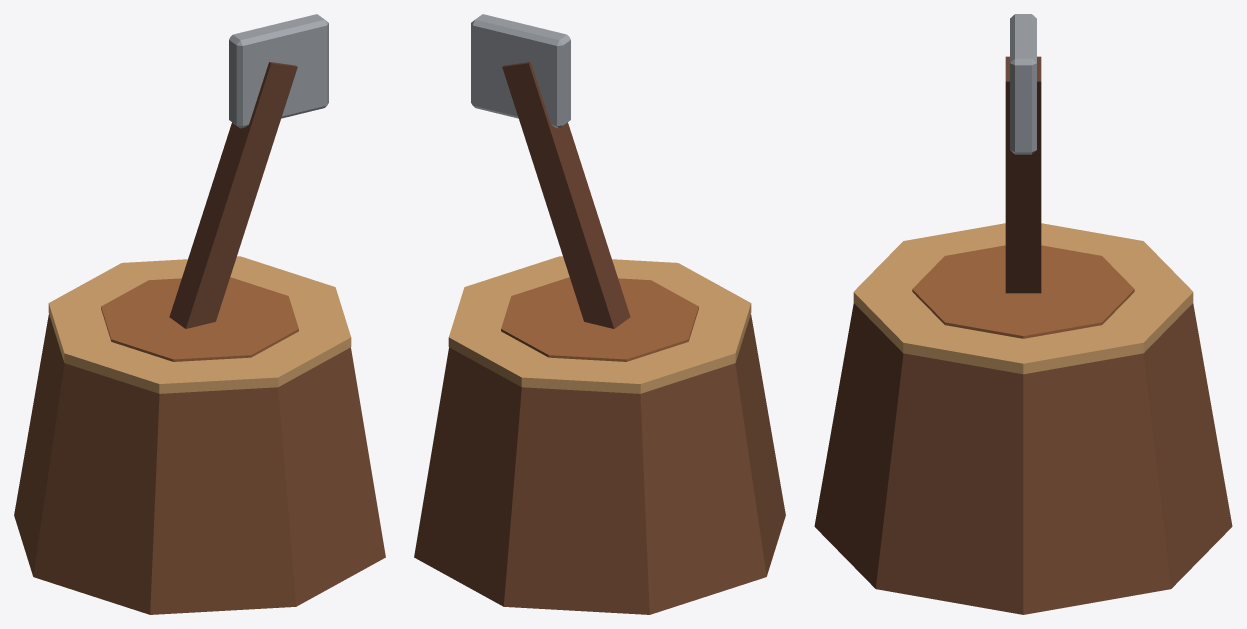
The model's file is Stump_Axe.fbx.
3 views of the same model, side by side, from view 1: azimuth 30°, elevation 25°; view 2: azimuth 150°, elevation 25°; view 3: azimuth 270°, elevation 25° (orthographic). The views are drawn at different scales.
Visible parts, largest first — view 1: Stump_Axe; view 2: Stump_Axe; view 3: Stump_Axe.
Boxes of the visible parts, box(x1,y1,x2,y2) form: Stump_Axe: box(14, 14, 385, 614); Stump_Axe: box(414, 14, 785, 614); Stump_Axe: box(814, 14, 1232, 614).
Size of the model in its own units: 0.8452 by 1.19 by 0.8452.
